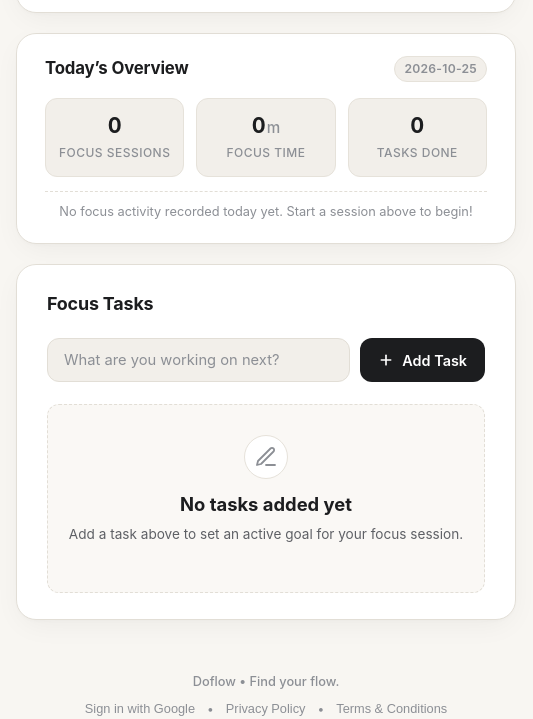
FEATURE 3: Task Management & Timer Independence › adds a valid task, clears input, hides empty state, and selects it as active focus
(page scrolled)
Type "Design user onboarding flow" into the field with test id "task-input" at (199, 360), box [47,338,350,382]
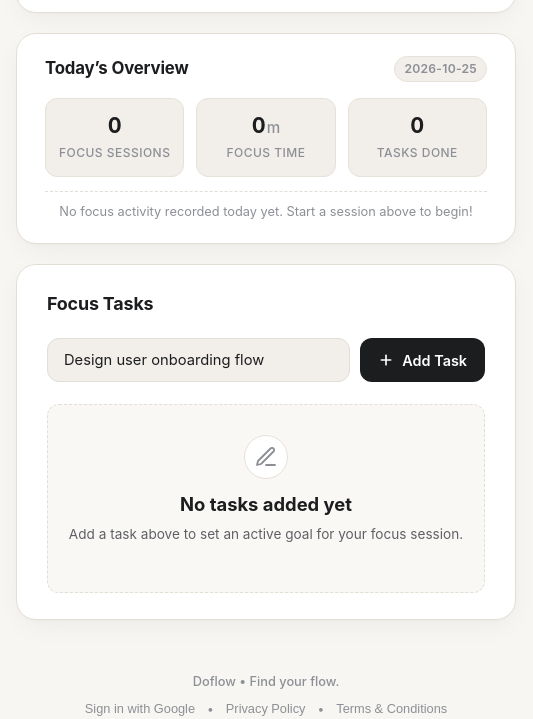
Click the button with test id "add-task-button" at (423, 360), box [360,338,485,382]
(page scrolled)
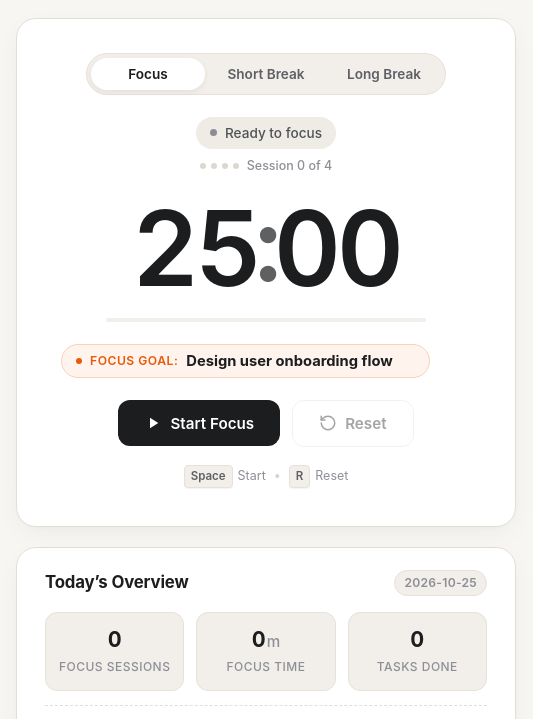
Expected: the element with test id "tasks-empty-state" is gone
Expected: the element with test id "current-focus-goal" shows "Design user onboarding flow", [186,352,393,370]
